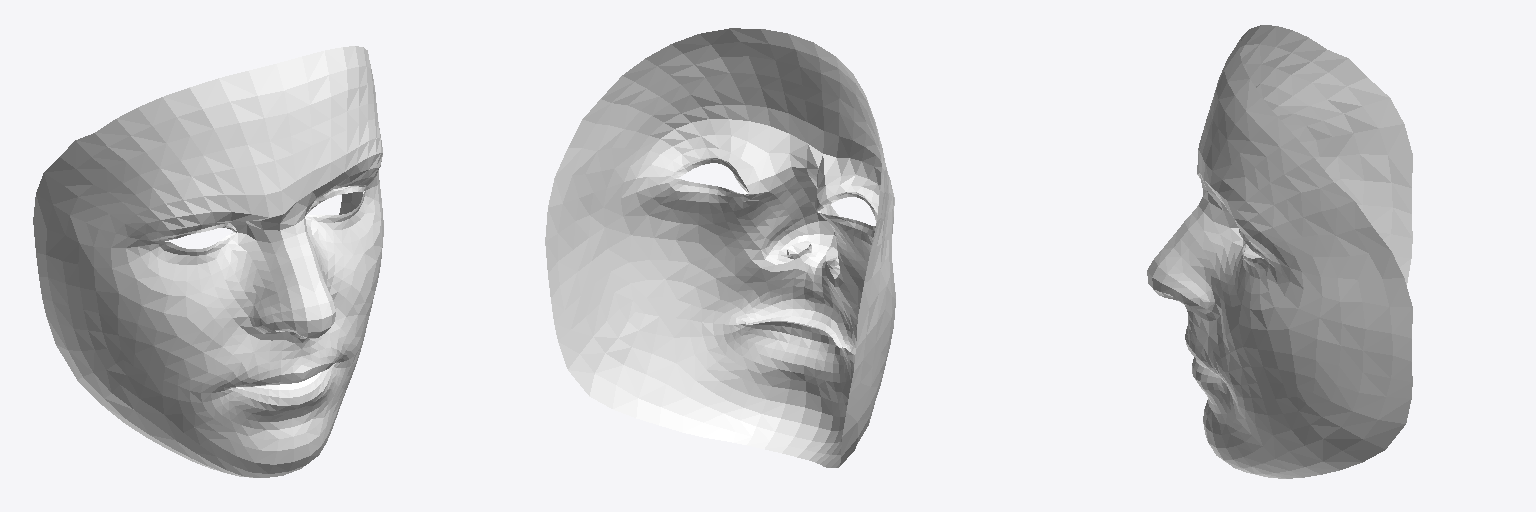
File: browDown_R.obj
3 renders of one model, left to right at view 1: azimuth 30°, elevation 25°; view 2: azimuth 150°, elevation 25°; view 3: azimuth 270°, elevation 25°, orthographic.
Visible parts, largest first — view 1: default; view 2: default; view 3: default.
Boxes of the visible parts, <box> form: default: <box>33,46,383,477</box>; default: <box>545,28,895,467</box>; default: <box>1147,25,1412,478</box>.
Bounding box in the file's own units: 0.1447 × 0.1816 × 0.1055.